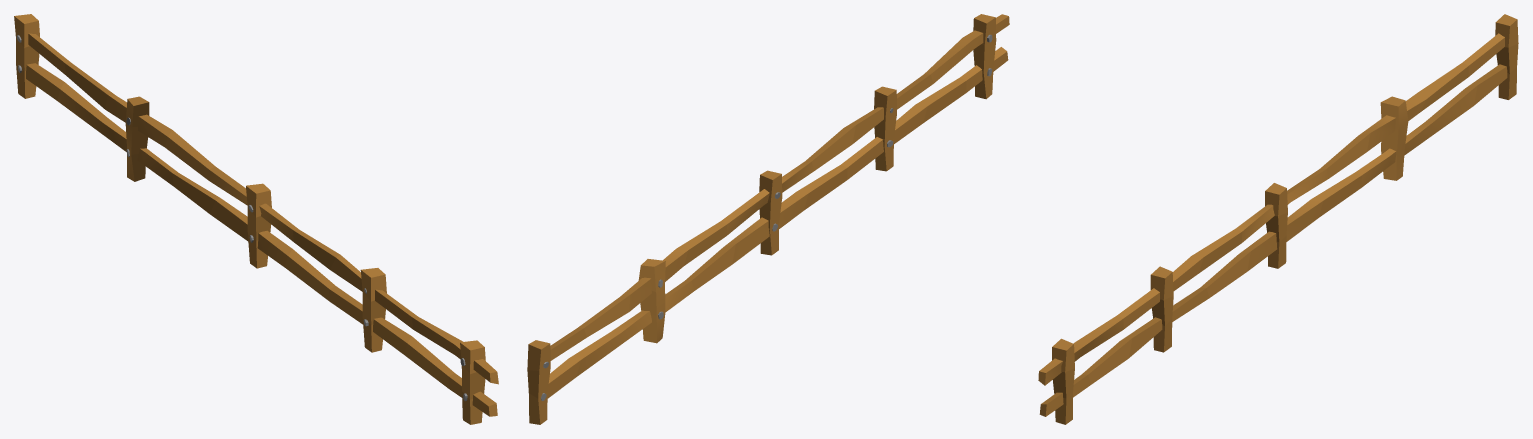
The model's file is Barrière_Fin.fbx.
3 views of the same model, side by side, from view 1: azimuth 30°, elevation 25°; view 2: azimuth 150°, elevation 25°; view 3: azimuth 330°, elevation 25° (orthographic).
Parts seen in each view (by area): view 1: Barrière_Fin; view 2: Barrière_Fin; view 3: Barrière_Fin.
Boxes of the visible parts, x1,y1,x2,y2 form: Barrière_Fin: (14,14,498,424); Barrière_Fin: (527,14,1009,424); Barrière_Fin: (1038,14,1518,424).
Size of the model in its own units: 38.1 by 143 by 1593.
Materials: 1 (1 with a texture image).
